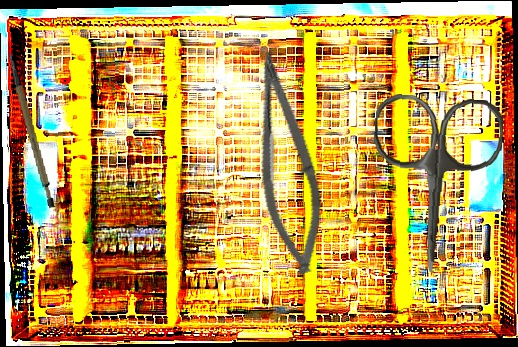Iris Scissors: (365, 92, 505, 277)
Micro Scissor: (231, 46, 338, 279)
Scalpel Handle: (7, 47, 58, 212)
